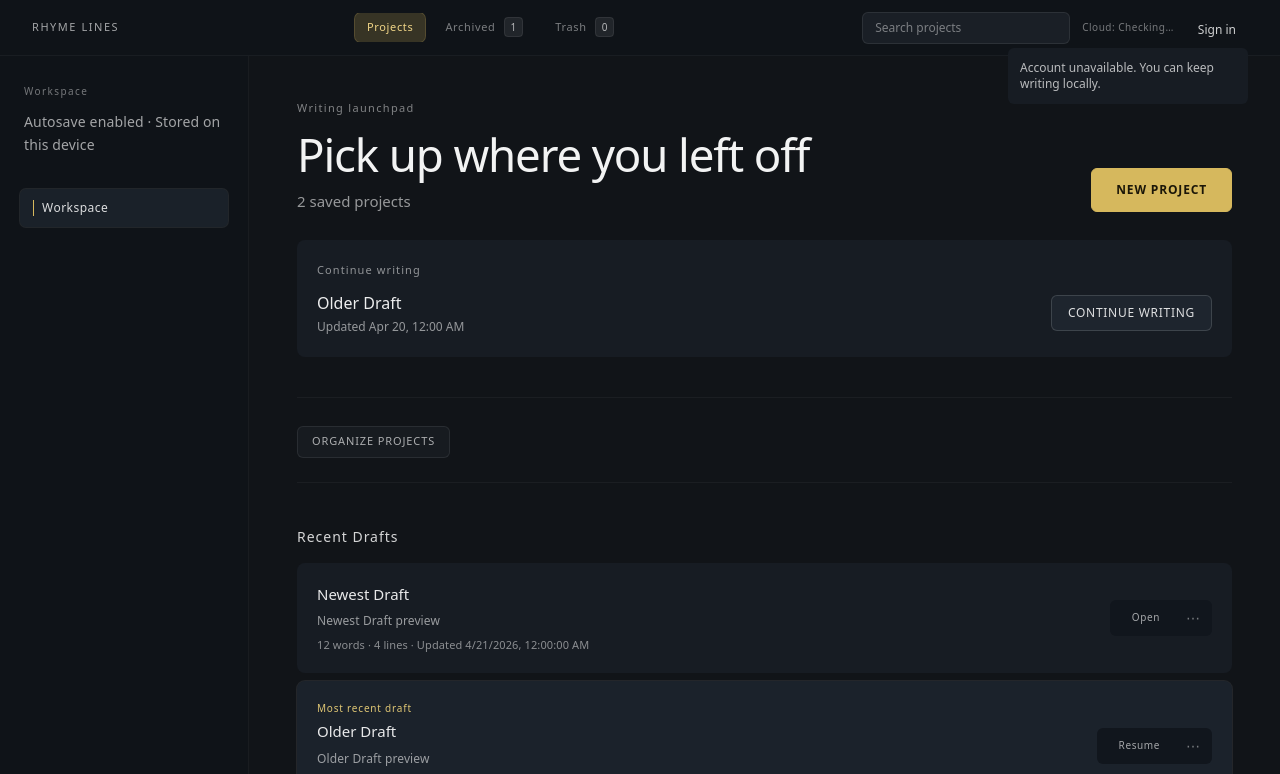
Test: DashboardShell › does not apply hidden folder filtering in archived/trash views
Click the button "ORGANIZE PROJECTS": (374,442) x1=297 y1=426 x2=450 y2=458
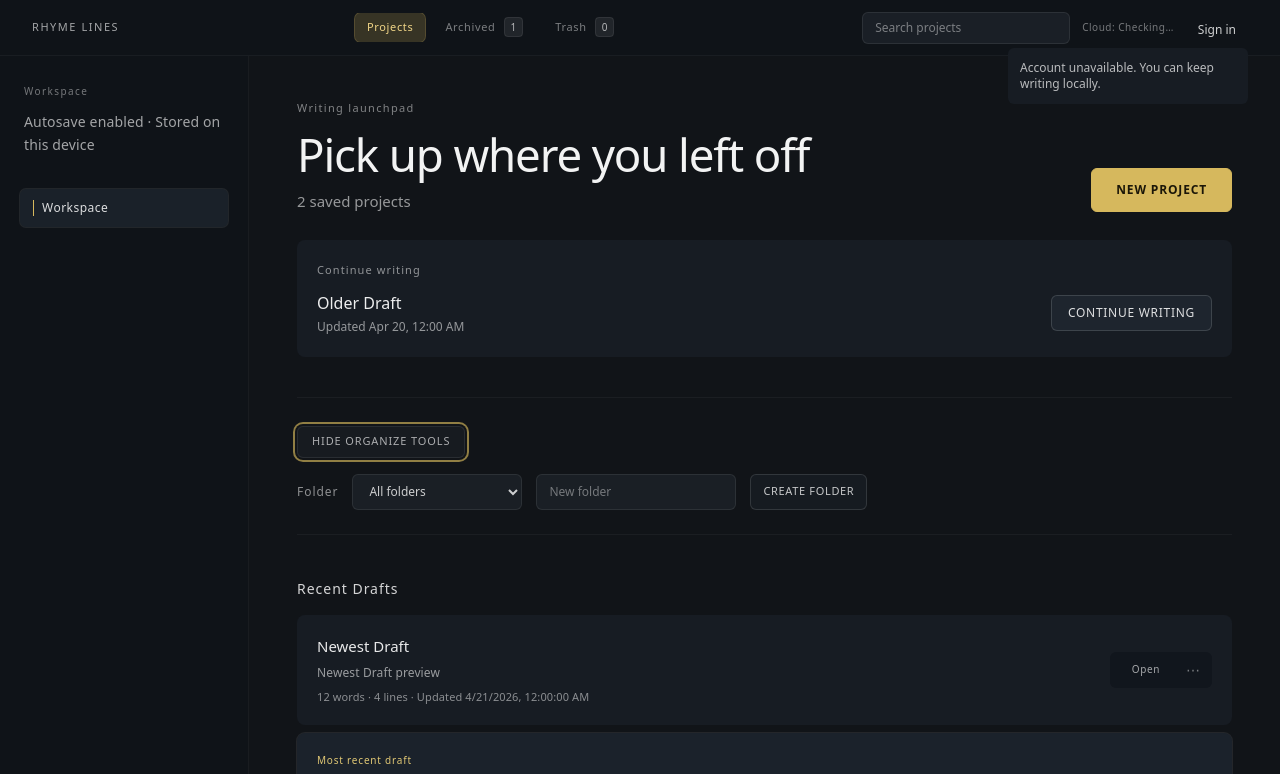
Select "Hooks" in the dropdown with id "dashboard-folder-filter": (438,492) x1=352 y1=474 x2=522 y2=510
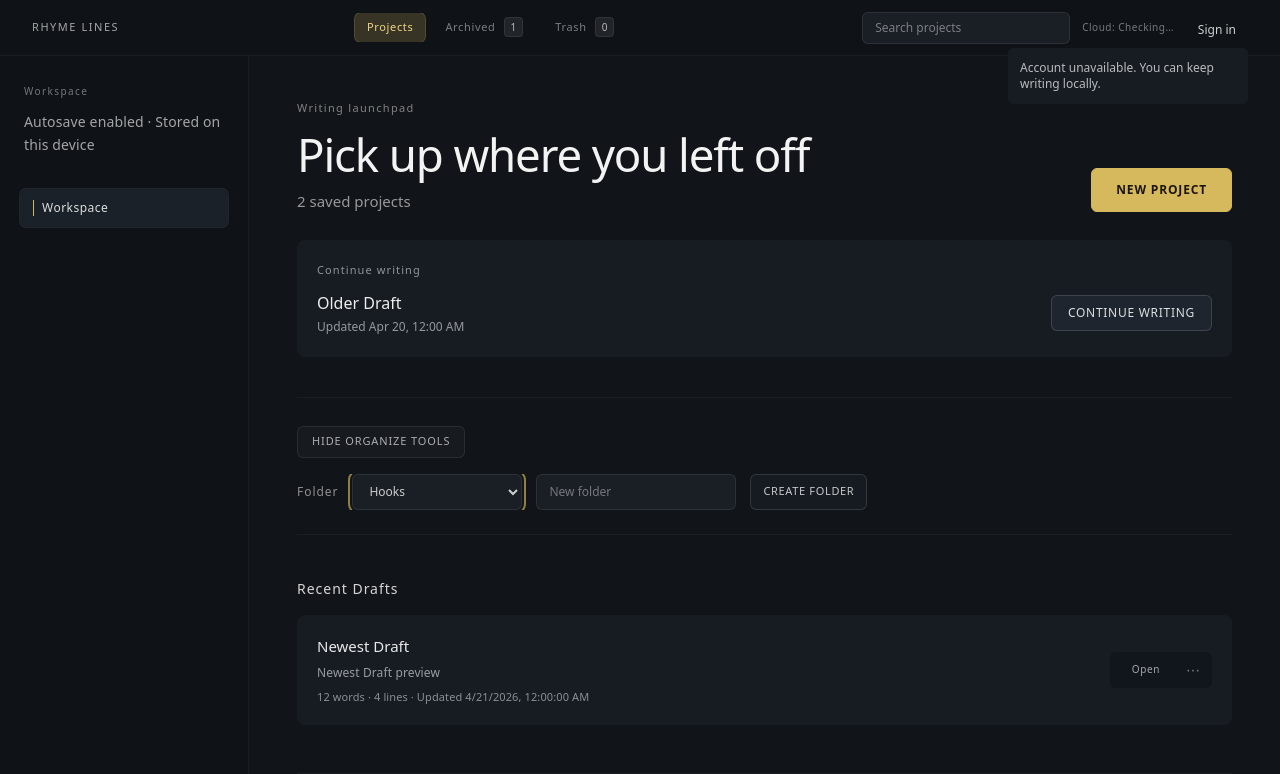
Check: the link with aria-label "Open Newest Draft" is shown, box x1=1132 y1=662 x2=1160 y2=676
Click the button "Archived1": (484,28) x1=433 y1=13 x2=535 y2=42
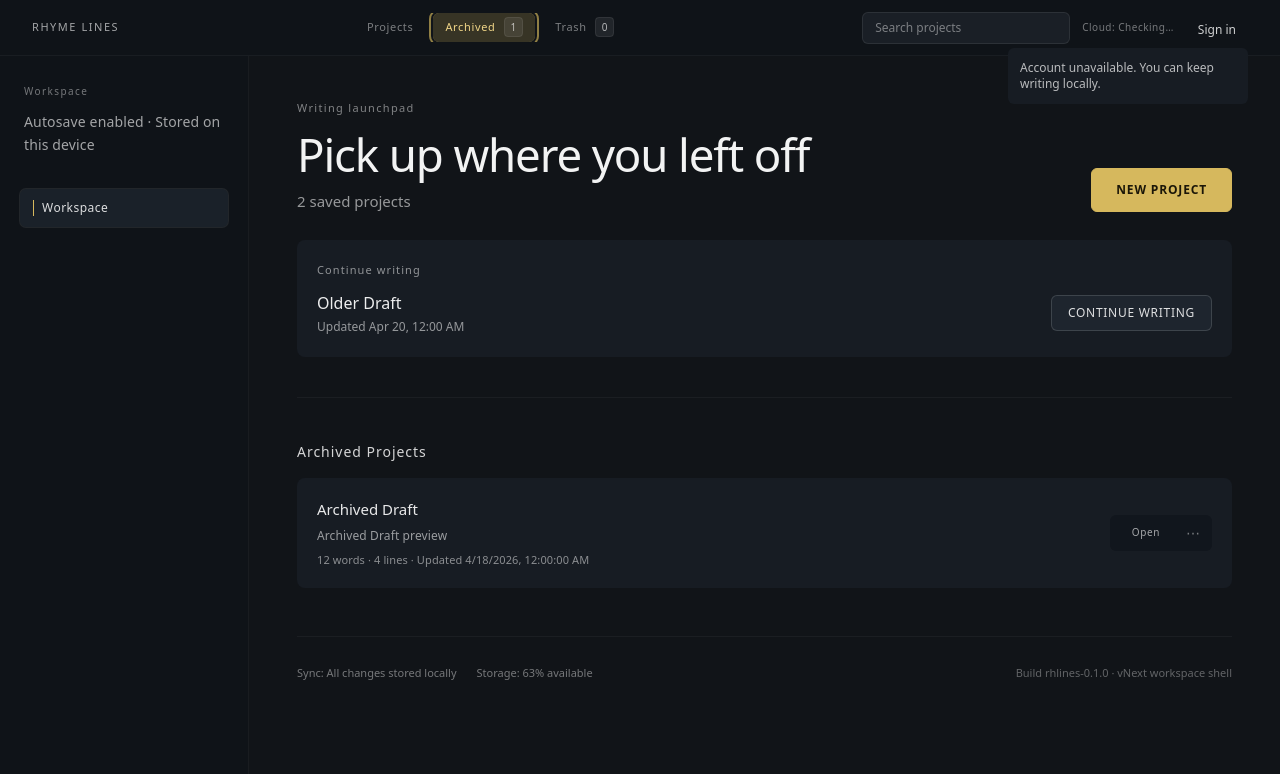
Check: the heading "Archived Projects" is shown, box x1=297 y1=442 x2=427 y2=462
Check: the text "Archived Draft" is shown, box x1=317 y1=499 x2=418 y2=519
Click the button "Trash0": (585,28) x1=543 y1=13 x2=626 y2=42
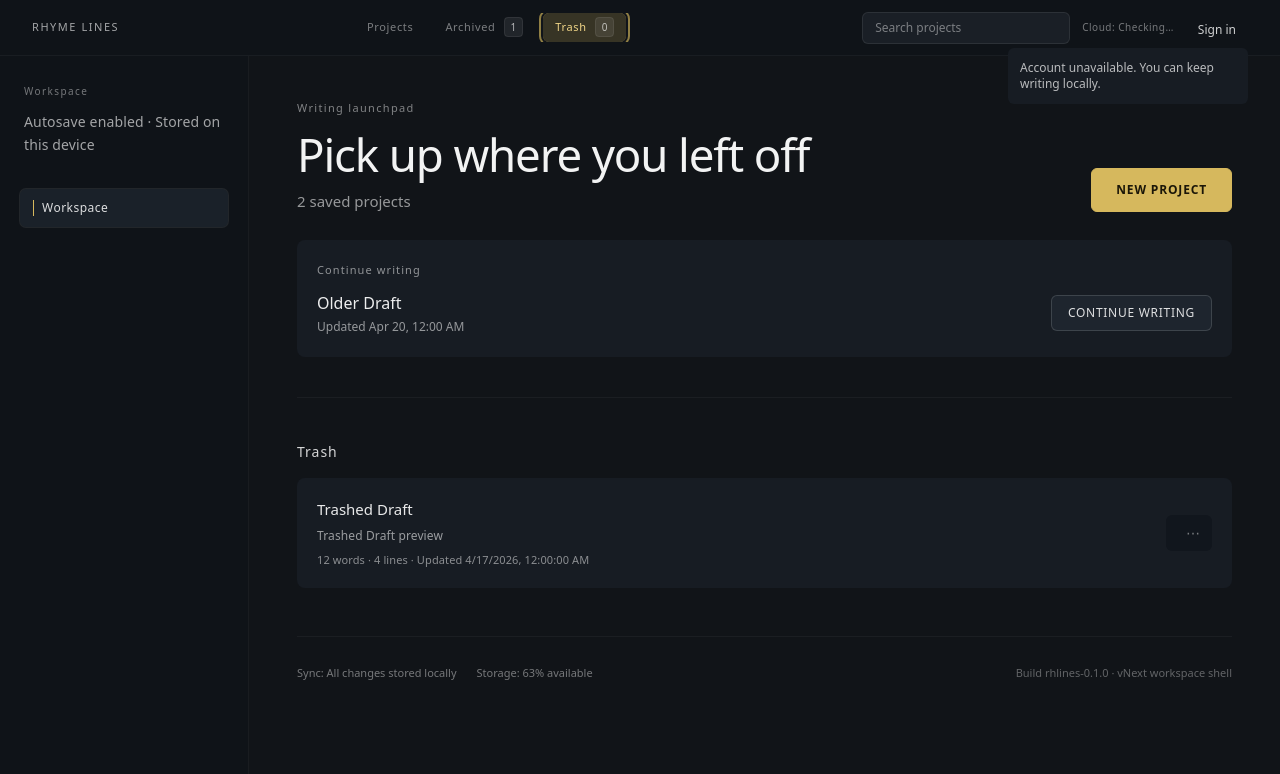
Check: the heading "Trash" is shown, box x1=297 y1=442 x2=338 y2=462
Check: the text "Trashed Draft" is shown, box x1=317 y1=499 x2=413 y2=519
Click the button "Projects": (390,28) x1=355 y1=13 x2=425 y2=42
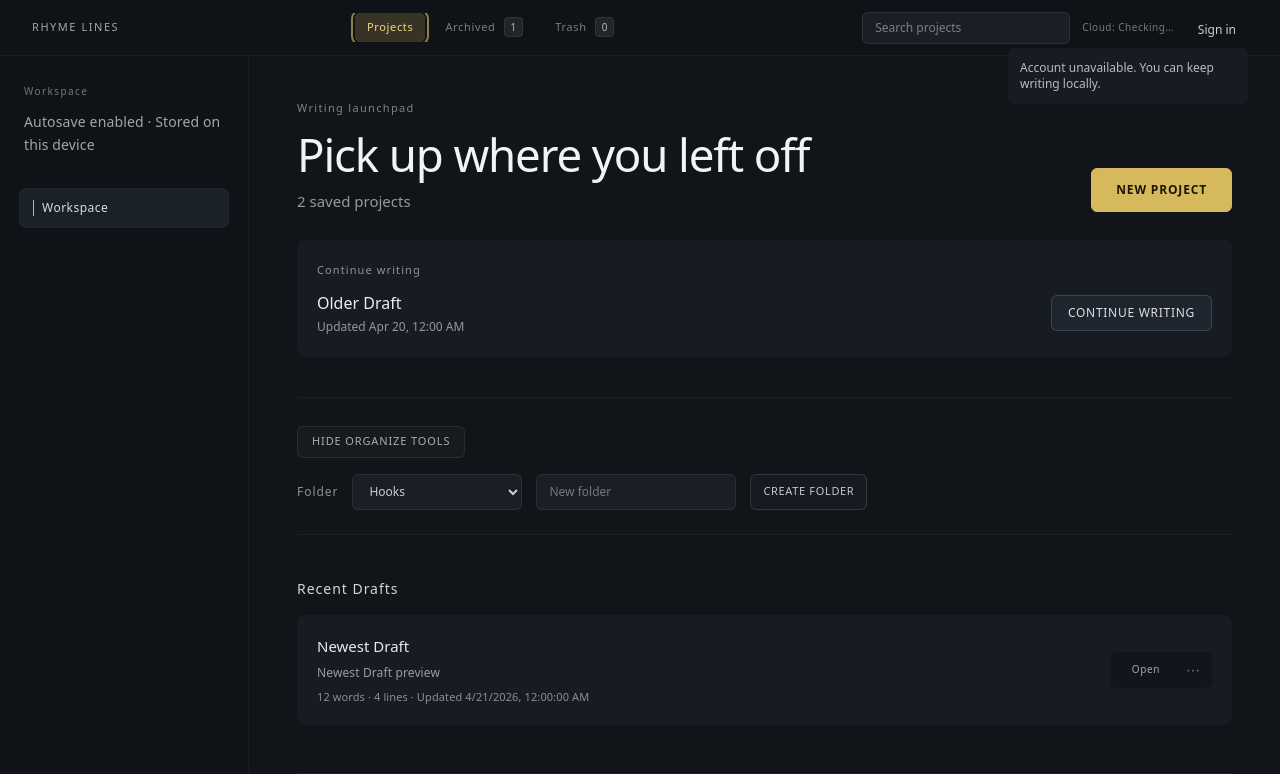
Check: the heading "Recent Drafts" is shown, box x1=297 y1=579 x2=398 y2=599
Check: the link with aria-label "Open Newest Draft" is shown, box x1=1132 y1=662 x2=1160 y2=676
